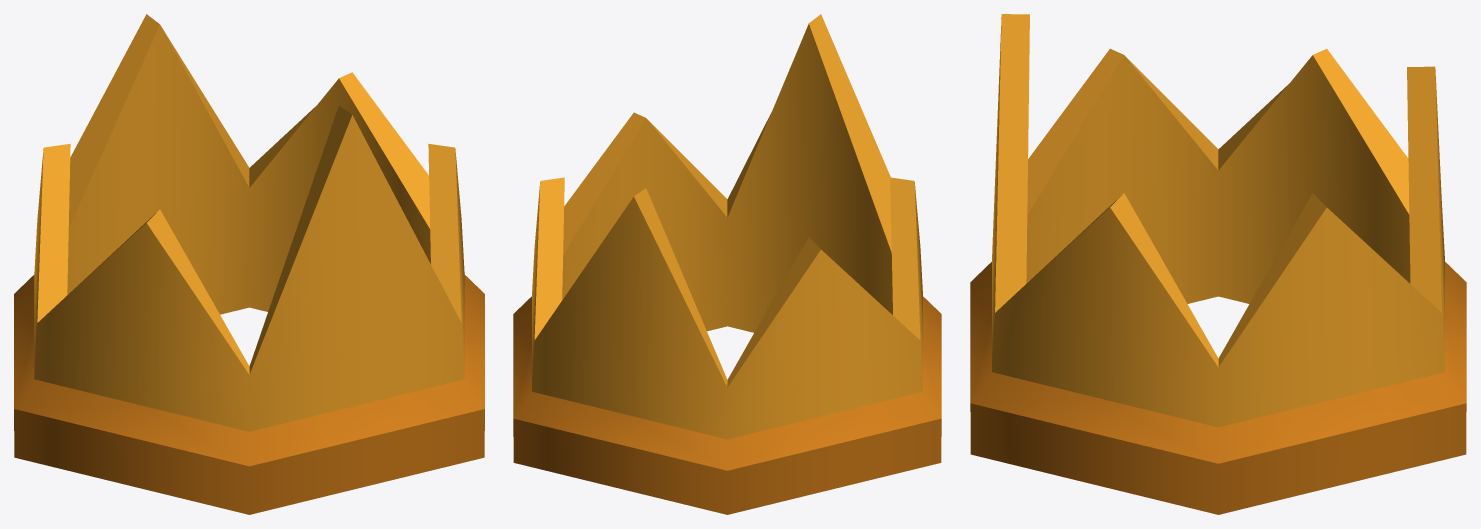
The model's file is Crown.fbx.
The picture shows the model from 3 angles, left to right: view 1: azimuth 30°, elevation 25°; view 2: azimuth 150°, elevation 25°; view 3: azimuth 270°, elevation 25°; orthographic projection. The views are drawn at different scales.
Parts seen in each view (by area): view 1: Hat_Crown; view 2: Hat_Crown; view 3: Hat_Crown.
Boxes of the visible parts, left/top/right/bottom form: Hat_Crown: left=14, top=14, right=484, bottom=514; Hat_Crown: left=513, top=14, right=941, bottom=514; Hat_Crown: left=970, top=14, right=1466, bottom=514.
Size of the model in its own units: 142 by 104 by 123.
